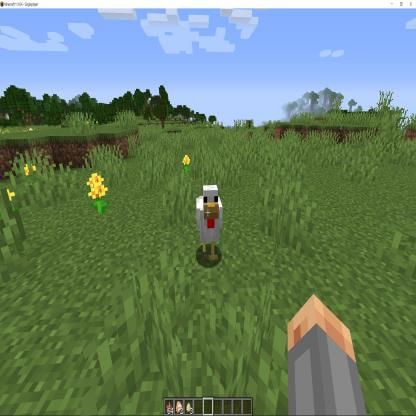minecraft-pigs: (194, 181, 225, 268)
